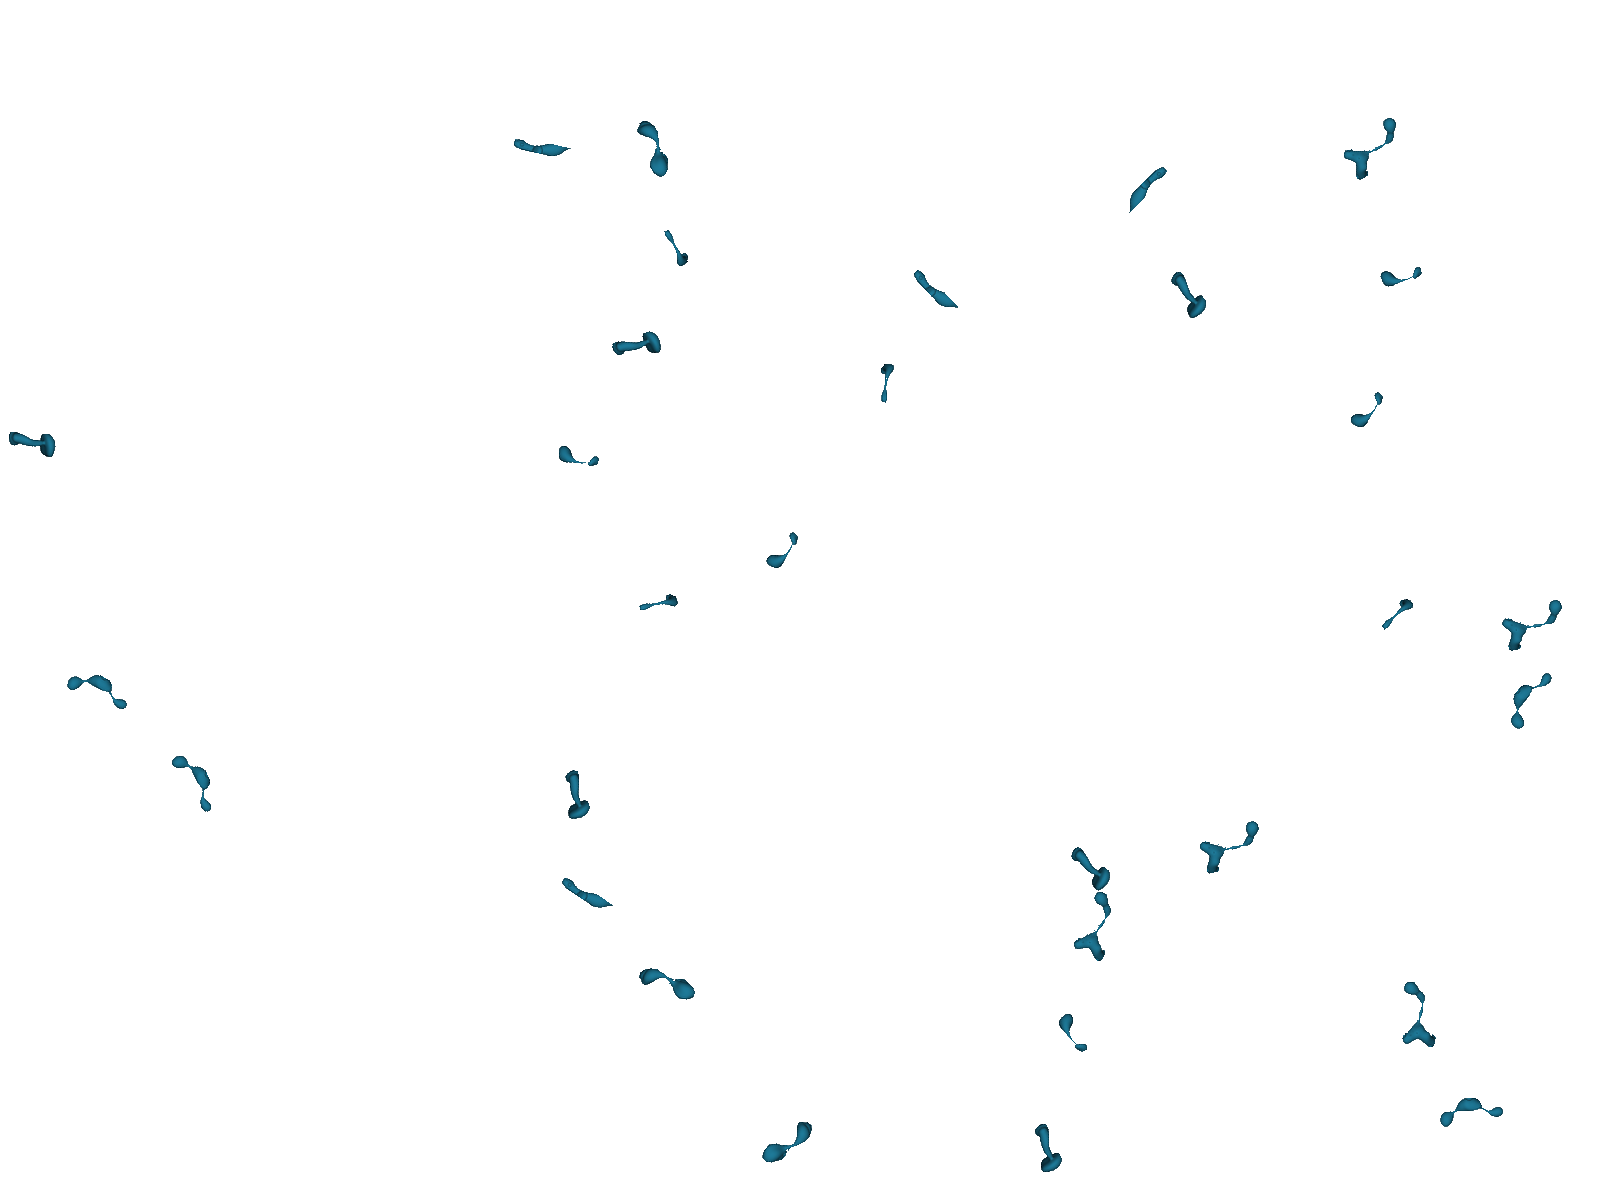Detached ligament: (1060, 887, 1134, 968), (1332, 113, 1414, 184), (1492, 662, 1562, 736), (60, 657, 136, 720), (1191, 817, 1267, 876), (166, 742, 226, 818), (1494, 596, 1570, 653), (1390, 979, 1446, 1054), (756, 1109, 816, 1174), (624, 116, 680, 182), (1116, 161, 1170, 216), (908, 266, 961, 321), (1159, 268, 1212, 323), (1060, 845, 1116, 895), (557, 874, 616, 921), (1435, 1093, 1504, 1129), (1022, 1121, 1066, 1177), (635, 966, 698, 1005), (553, 766, 593, 823), (609, 328, 665, 368), (1346, 389, 1390, 434), (762, 529, 805, 575), (511, 135, 573, 165), (1053, 1008, 1091, 1058), (1377, 594, 1416, 637), (656, 224, 693, 268), (5, 431, 58, 459), (553, 442, 601, 473), (635, 590, 680, 619), (1377, 263, 1424, 290), (878, 363, 894, 405)
